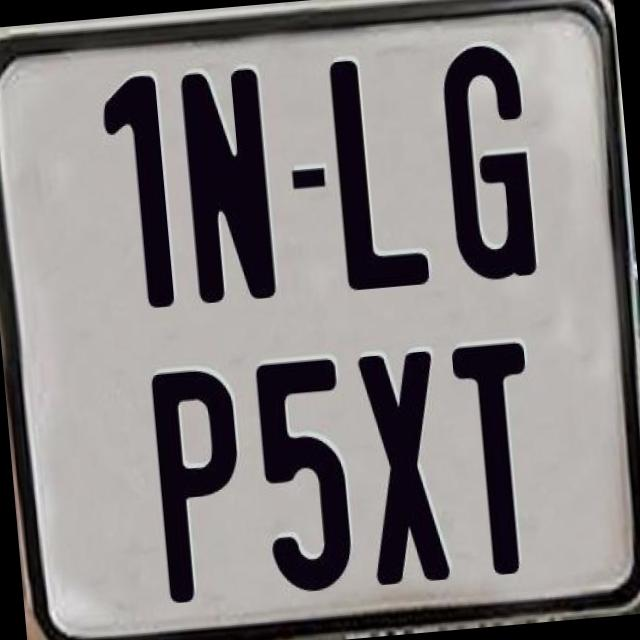1: (98, 71, 174, 315)
5: (252, 356, 358, 600)
G: (438, 41, 536, 287)
L: (326, 51, 436, 295)
N: (177, 66, 284, 312)
P: (147, 366, 250, 611)
T: (448, 337, 544, 574)
X: (352, 347, 454, 587)
